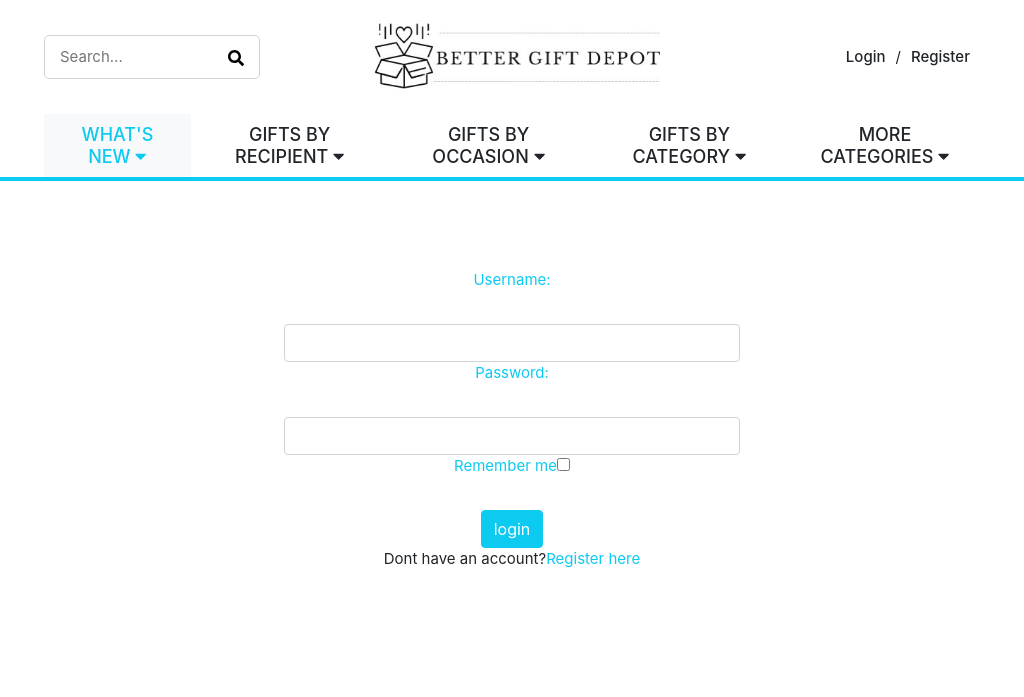
Test: Token Validator › Visits the webpage & inputs valid token
The image size is (1024, 697).
In the field with test id "username": [512, 344] box [284, 325, 740, 363], type "msaffold8"
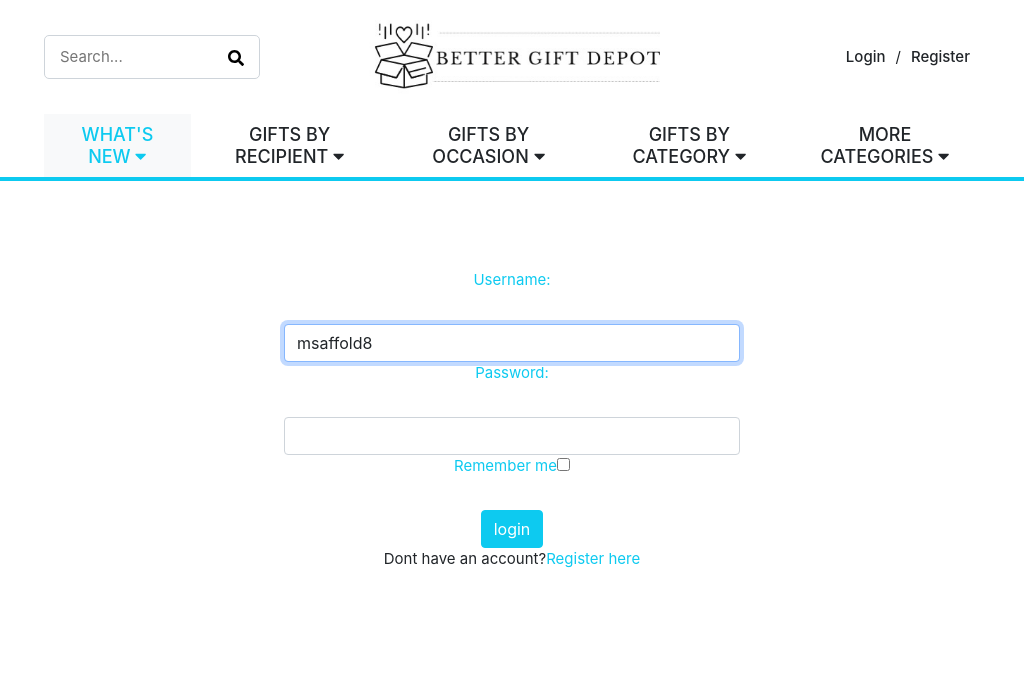
In the password field with test id "password": [512, 437] box [284, 418, 740, 456], type "test123"
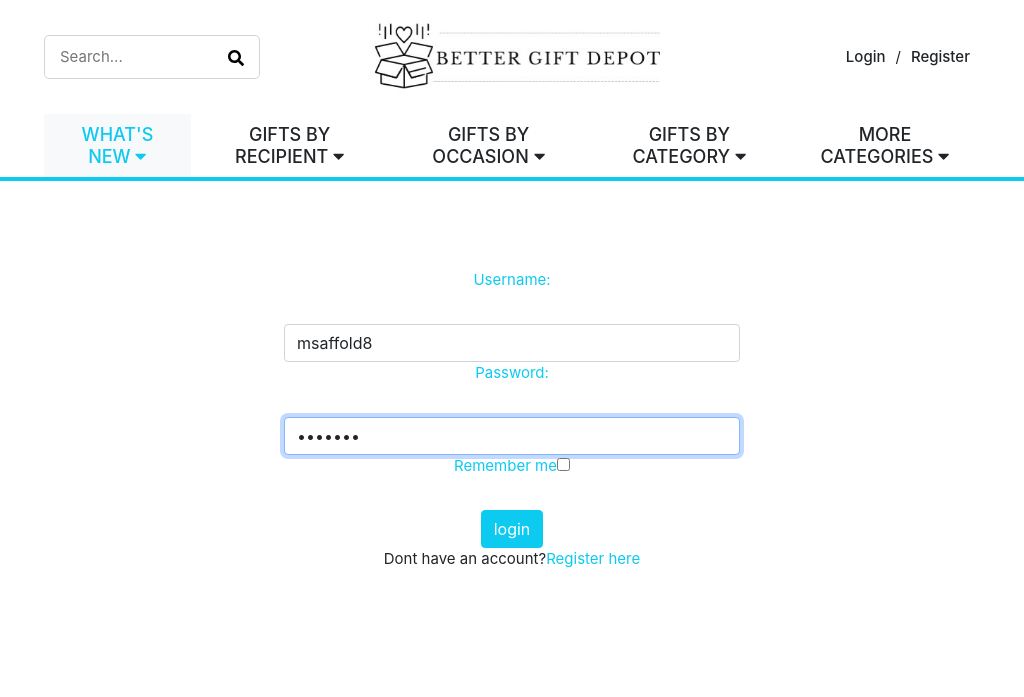
Click the button with test id "loginButton": [513, 530] box [481, 511, 544, 549]
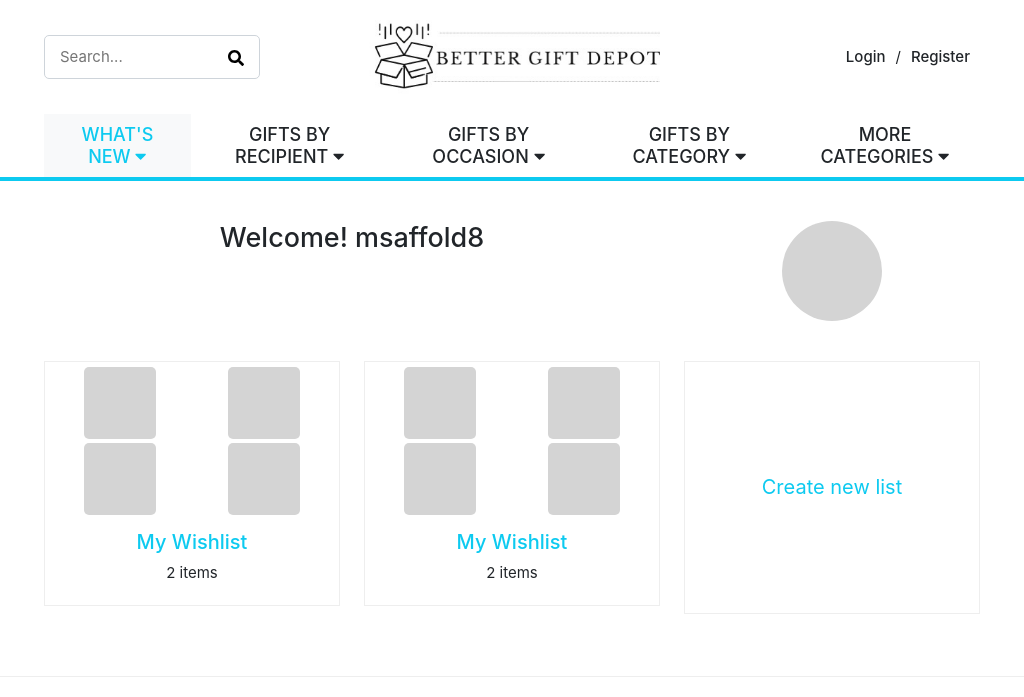
Expected: the 1st link "My Wishlist" is shown, [137, 530, 247, 554]
